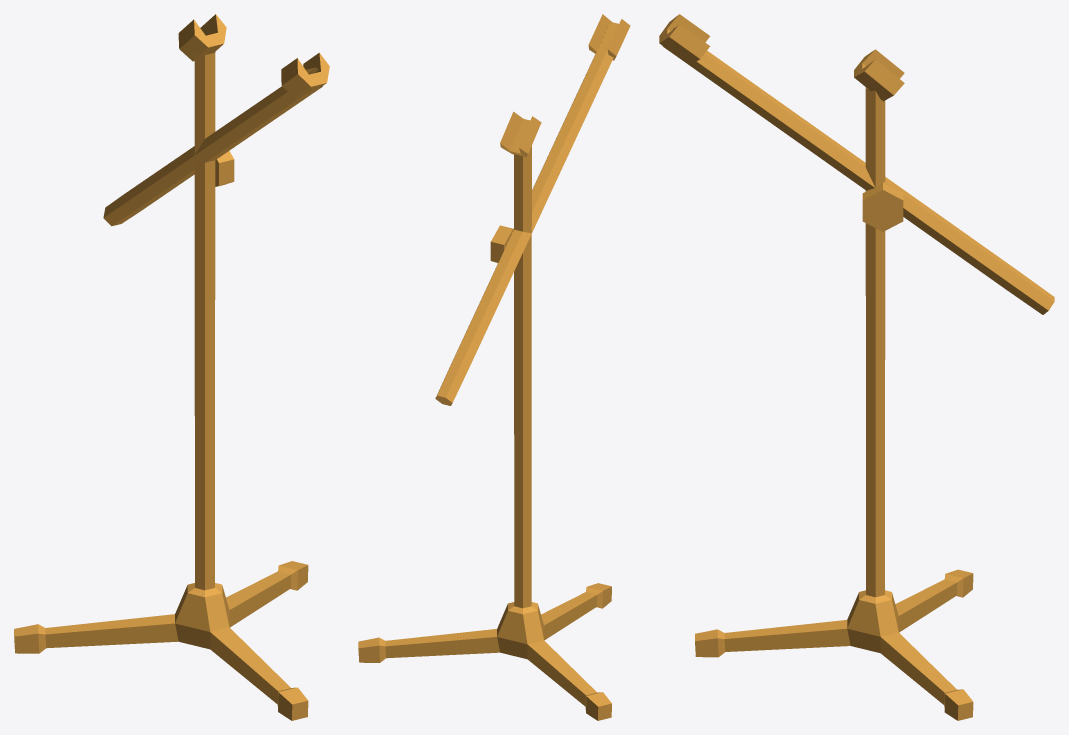
The model's file is microphone-stand.fbx.
3 renders of one model, left to right at view 1: azimuth 30°, elevation 25°; view 2: azimuth 150°, elevation 25°; view 3: azimuth 270°, elevation 25°, orthographic. The views are drawn at different scales.
Visible parts, largest first — view 1: microphone-stand; view 2: microphone-stand; view 3: microphone-stand.
Part boxes in pixels (box(x1,y1,x2,y2)): microphone-stand: box(14, 14, 329, 720); microphone-stand: box(358, 14, 630, 720); microphone-stand: box(659, 14, 1054, 720).
Size of the model in its own units: 0.6461 by 1.41 by 0.7942.
